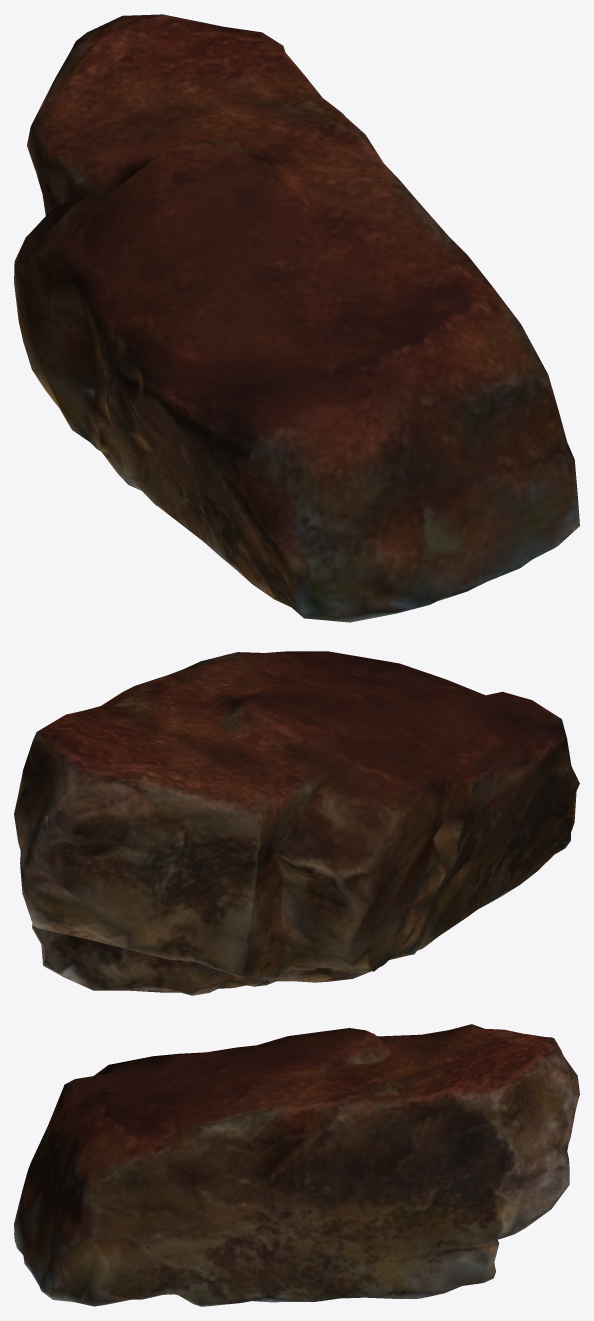
Rendered from rock_07.glb.
3 views of the same model, one above another, from view 1: azimuth 30°, elevation 25°; view 2: azimuth 150°, elevation 25°; view 3: azimuth 270°, elevation 25° (orthographic). The views are drawn at different scales.
Bounding box in the file's own units: 0.1671 × 0.1417 × 0.3193.
Materials: 1 (1 with a texture image).
